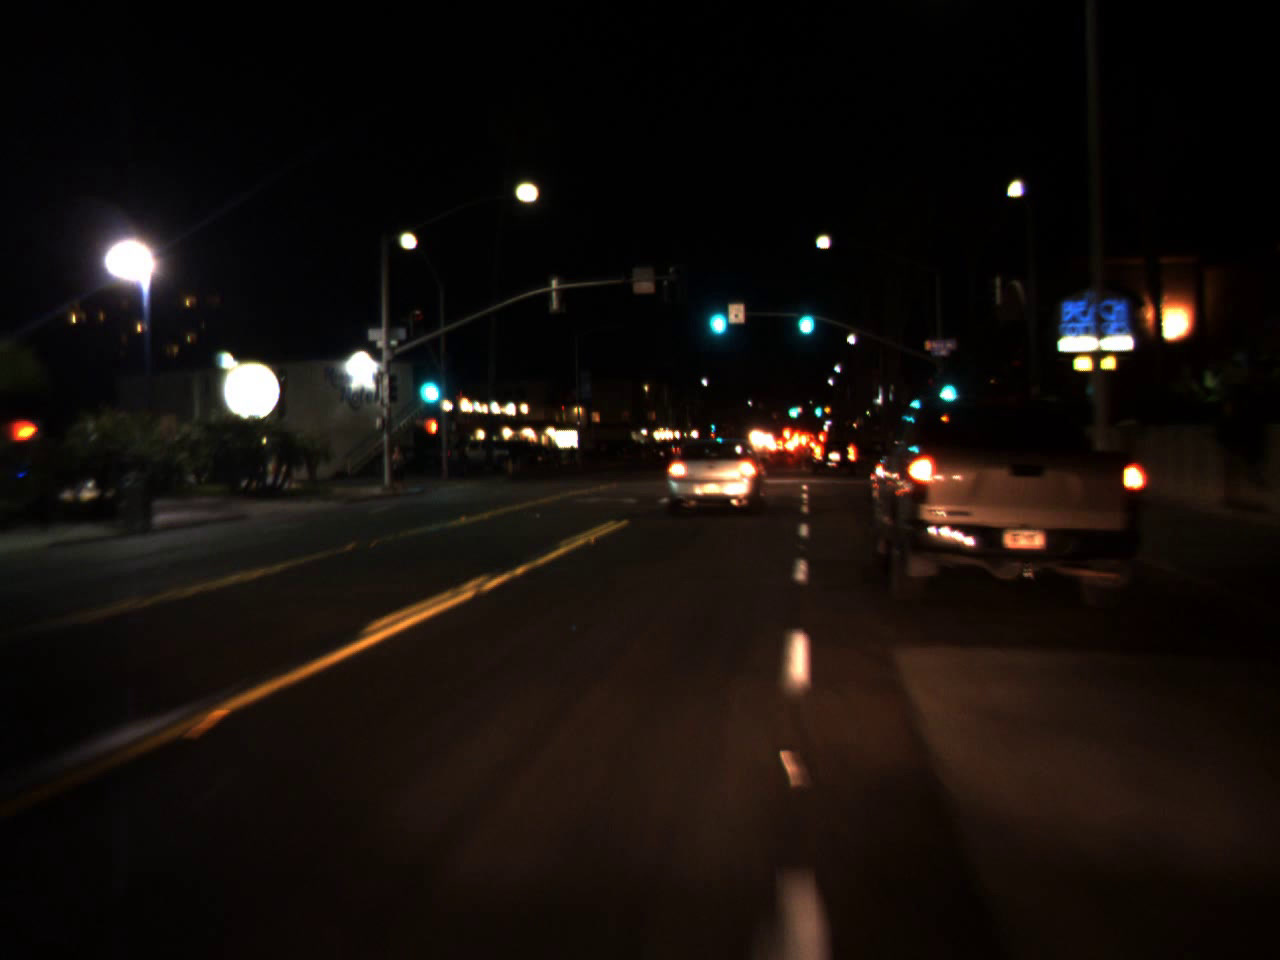go: (412, 354, 442, 411), (702, 288, 730, 342), (791, 293, 818, 338), (932, 368, 960, 407), (784, 396, 800, 420), (813, 396, 822, 420)
